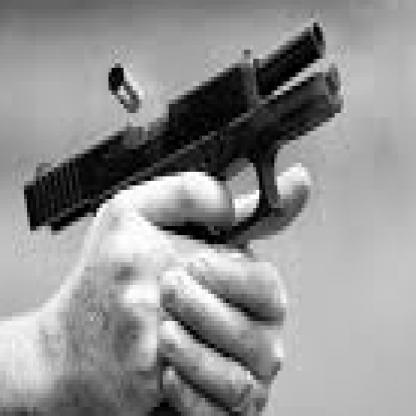gun: (15, 0, 353, 389)
